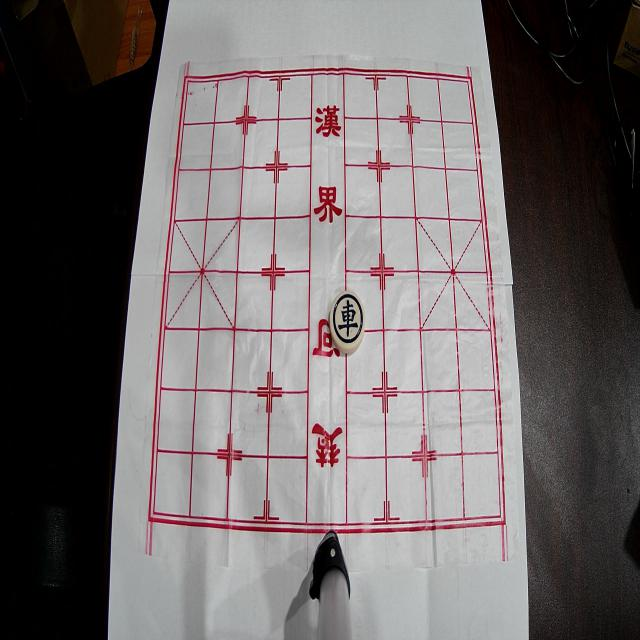black-chariot: (330, 291, 366, 354)
